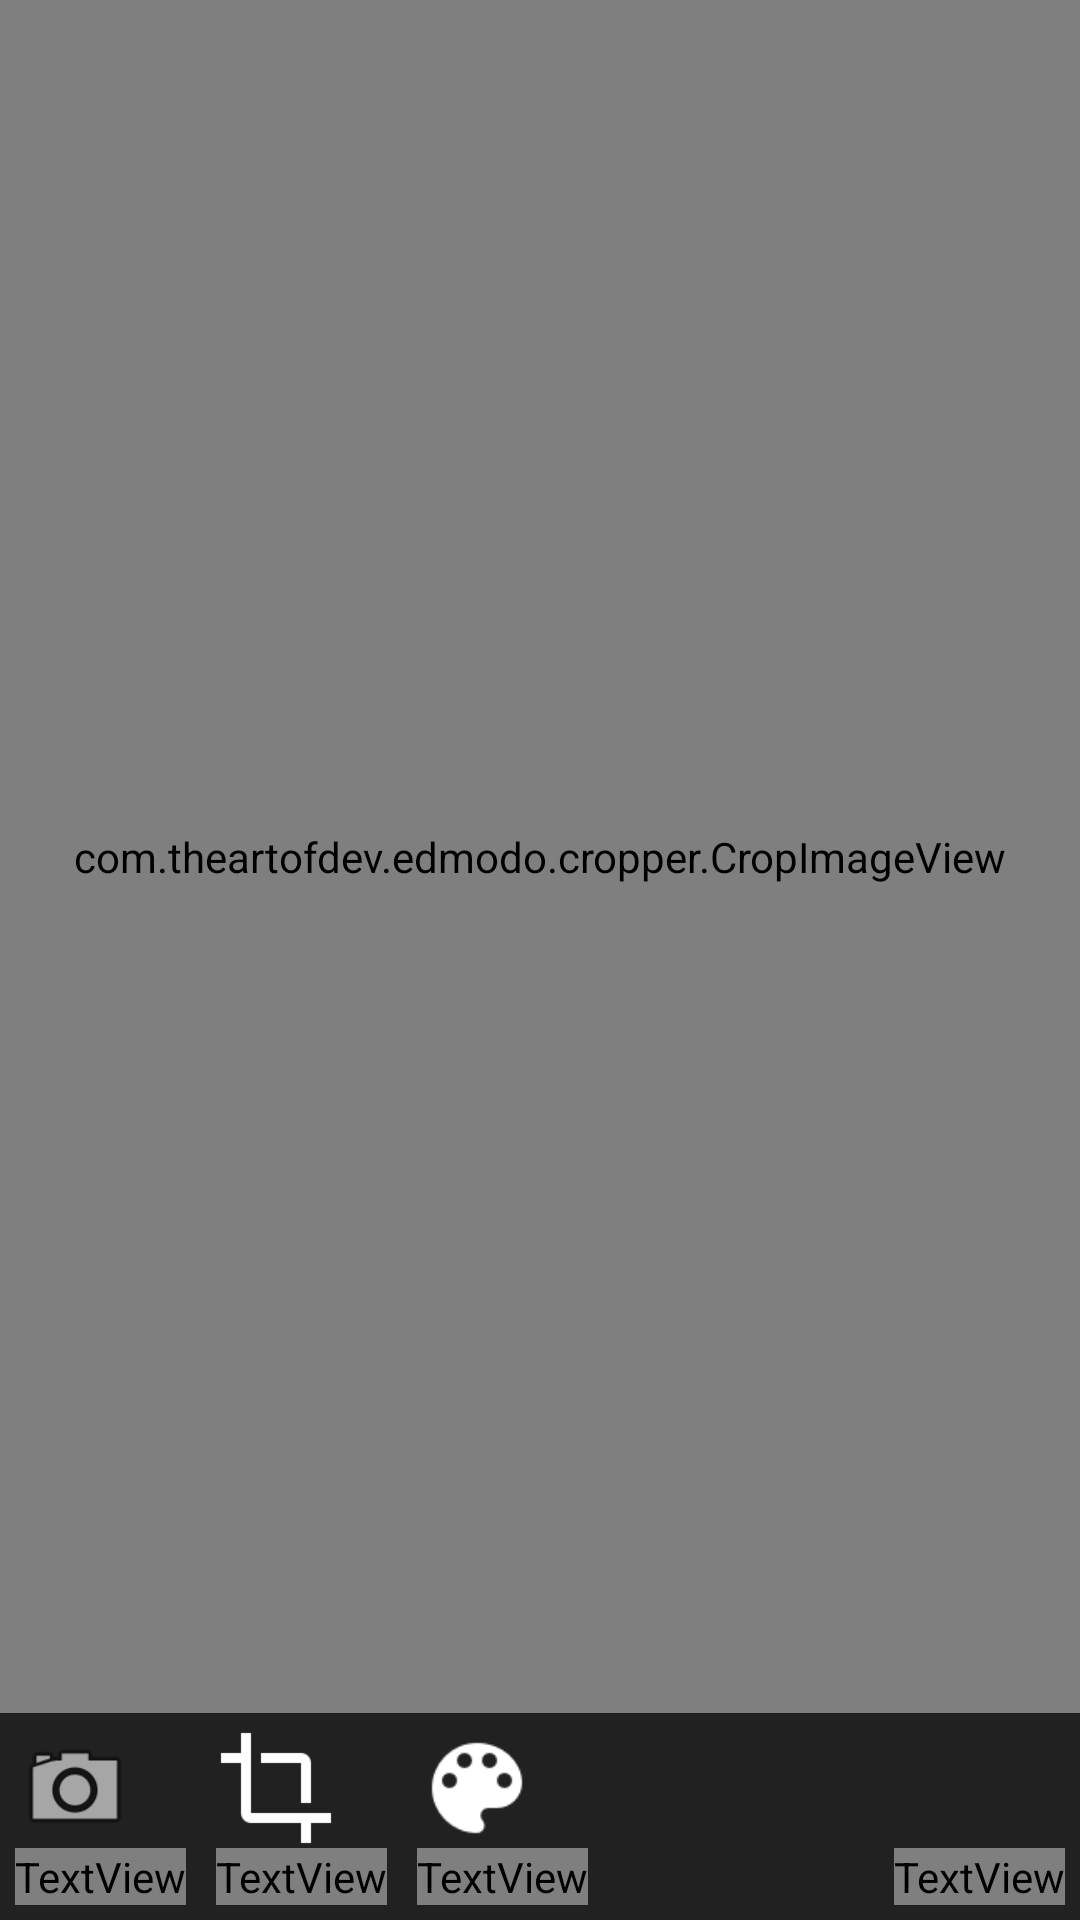

Screen size 1080w x 1920h. Icon name, then its center in pixels as (x,y):
camera: (75,1786)
